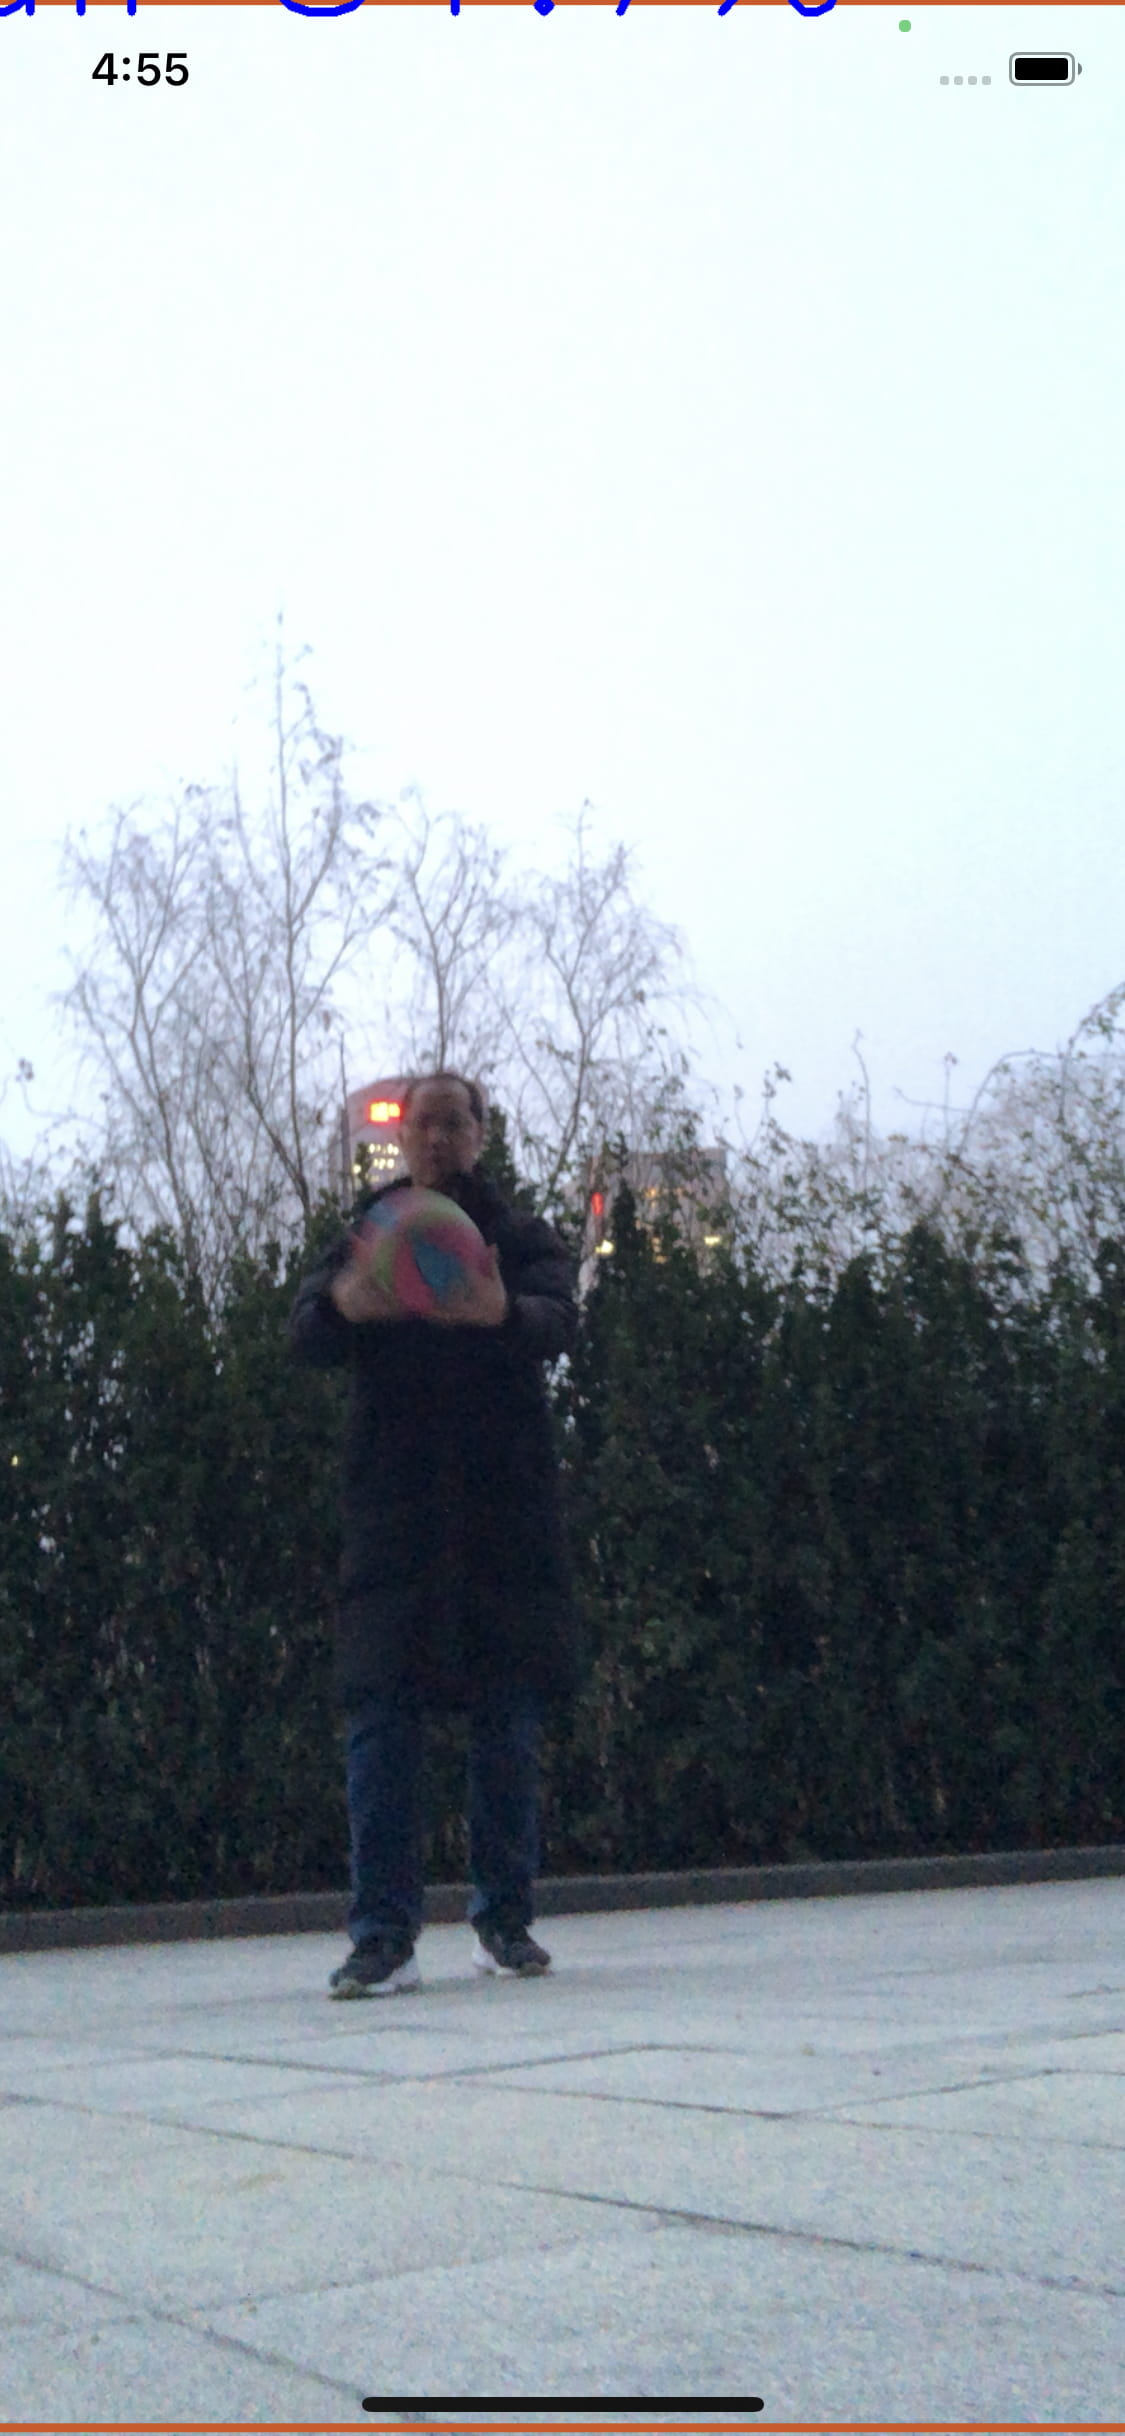ball: (359, 1185, 489, 1317)
